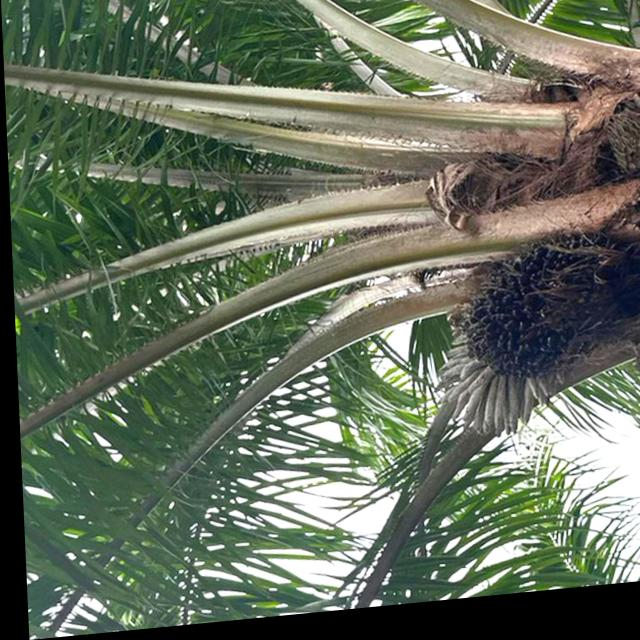unripe: (449, 236, 635, 399)
